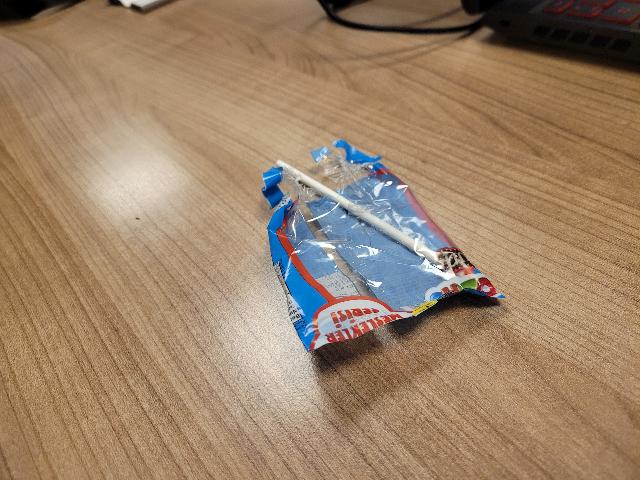Plastik: (256, 137, 519, 371)
